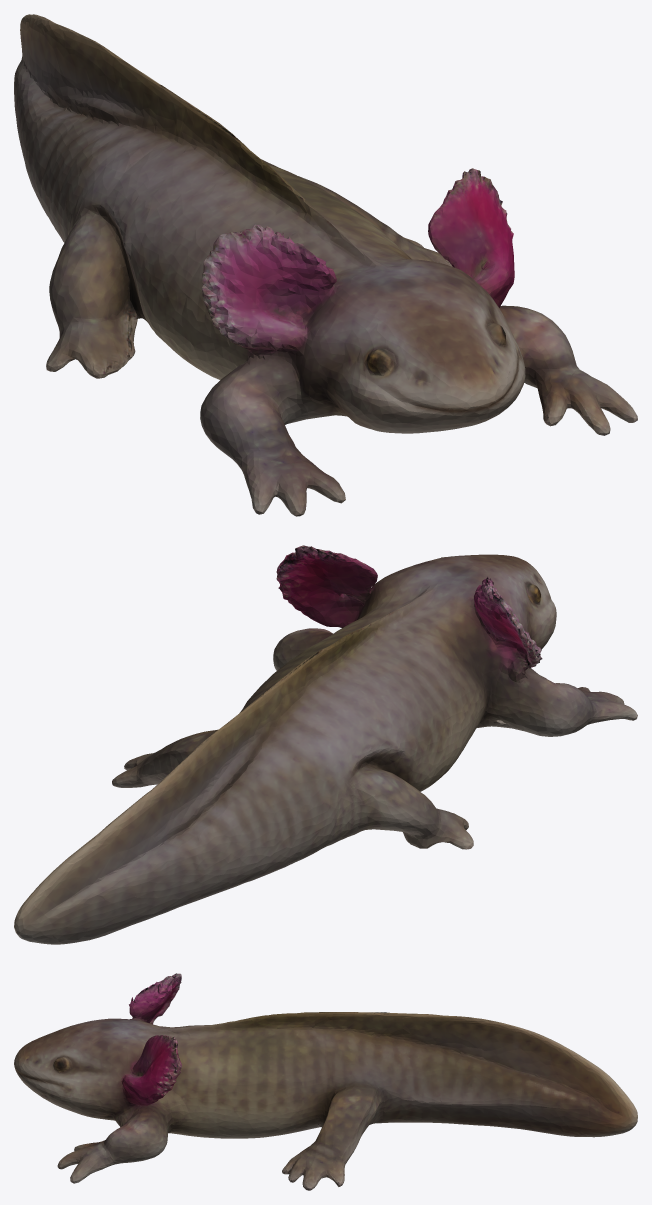
3 views of the same model, one above another, from view 1: azimuth 30°, elevation 25°; view 2: azimuth 150°, elevation 25°; view 3: azimuth 270°, elevation 25° (orthographic). The views are drawn at different scales.
Visible parts, largest first — view 1: world; view 2: world; view 3: world.
Part boxes in pixels (<box>): world: <box>14,14,637,516</box>; world: <box>14,545,637,944</box>; world: <box>14,973,637,1190</box>.
Bounding box in the file's own units: 0.4518 × 0.2189 × 1.
Materials: 1 (1 with a texture image).
